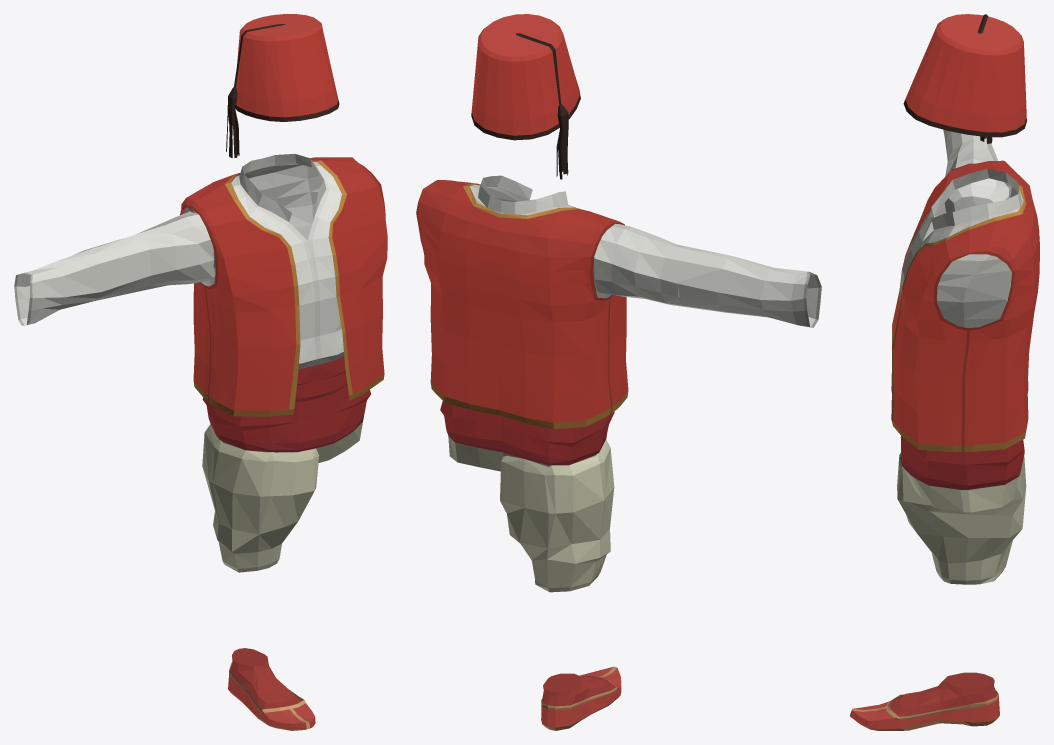
File: desertMerchant.glb
3 views of the same model, side by side, from view 1: azimuth 30°, elevation 25°; view 2: azimuth 150°, elevation 25°; view 3: azimuth 270°, elevation 25° (orthographic). The views are drawn at different scales.
Parts seen in each view (by area): view 1: desertMerchantBody, desertMerchantLegs, desertMerchantFez, desertMerchantLowerArms, desertMerchantUpperArms, desertMerchantShoes; view 2: desertMerchantBody, desertMerchantLegs, desertMerchantFez, desertMerchantLowerArms, desertMerchantUpperArms, desertMerchantShoes; view 3: desertMerchantBody, desertMerchantFez, desertMerchantLegs, desertMerchantShoes, desertMerchantUpperArms.
Boxes of the visible parts, <box> form: desertMerchantBody: <box>180,154,387,462</box>; desertMerchantLegs: <box>202,424,318,572</box>; desertMerchantFez: <box>226,14,339,157</box>; desertMerchantLowerArms: <box>14,238,136,325</box>; desertMerchantUpperArms: <box>126,211,215,293</box>; desertMerchantShoes: <box>228,648,315,730</box>; desertMerchantBody: <box>416,175,628,471</box>; desertMerchantLegs: <box>500,439,614,592</box>; desertMerchantFez: <box>471,14,580,179</box>; desertMerchantLowerArms: <box>675,248,821,327</box>; desertMerchantUpperArms: <box>593,224,692,306</box>; desertMerchantShoes: <box>541,666,621,730</box>; desertMerchantBody: <box>891,160,1039,512</box>; desertMerchantFez: <box>903,14,1026,143</box>; desertMerchantLegs: <box>897,453,1026,584</box>; desertMerchantShoes: <box>850,672,999,730</box>; desertMerchantUpperArms: <box>944,134,1009,213</box>.
Size of the model in its own units: 1.16 by 2.05 by 0.4944.
